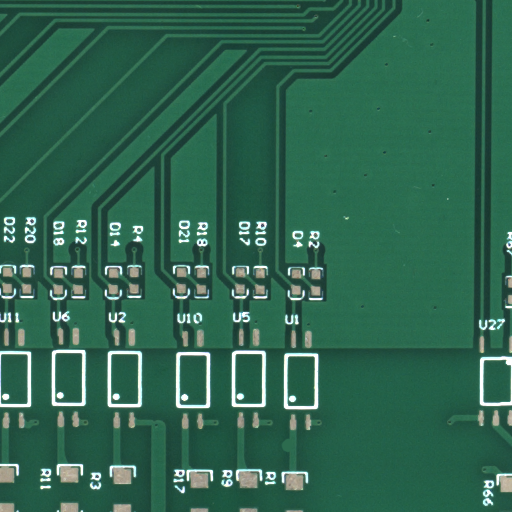Spur: (286, 444, 296, 458)
